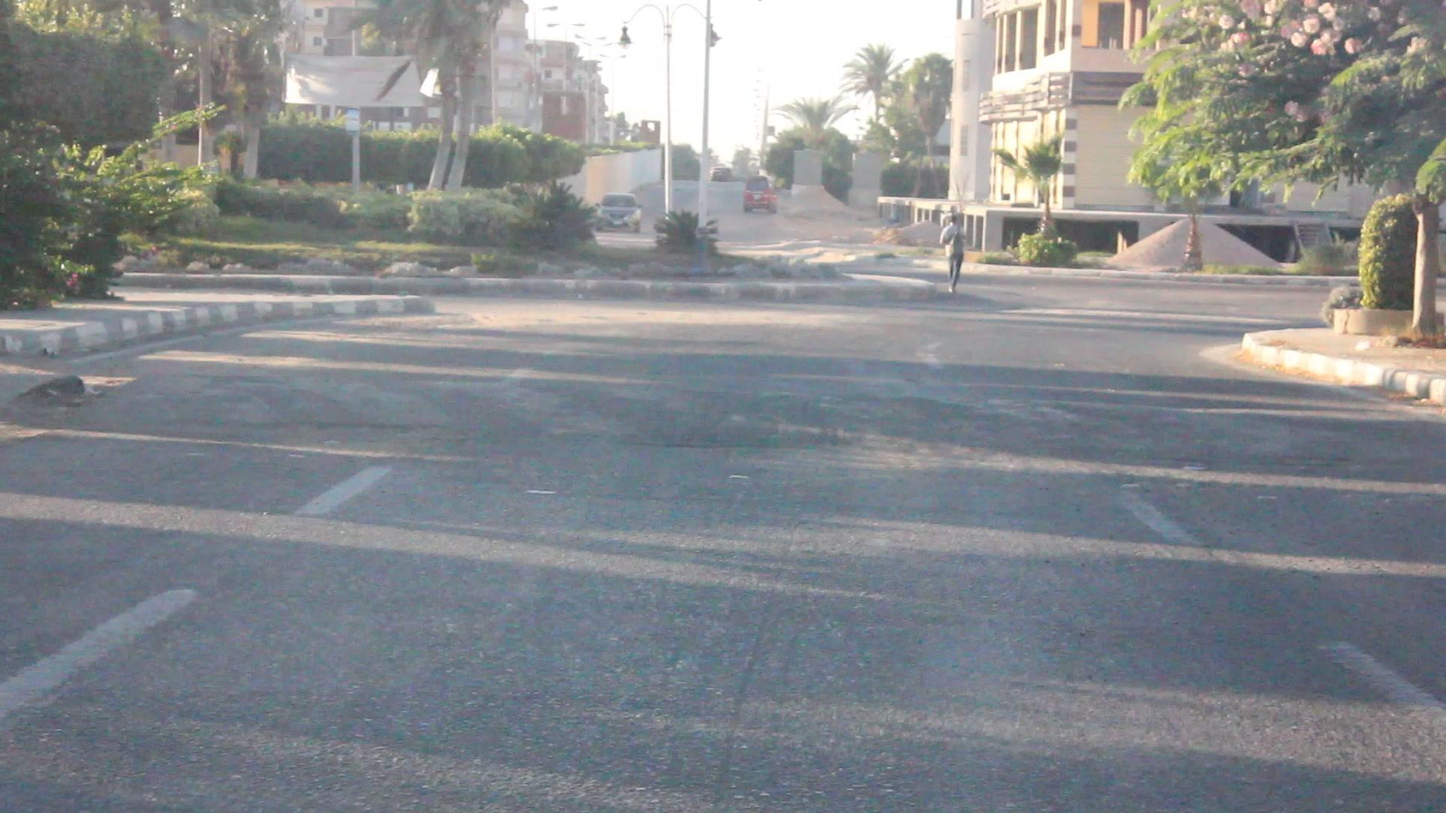Bump: (128, 371, 1446, 474)
